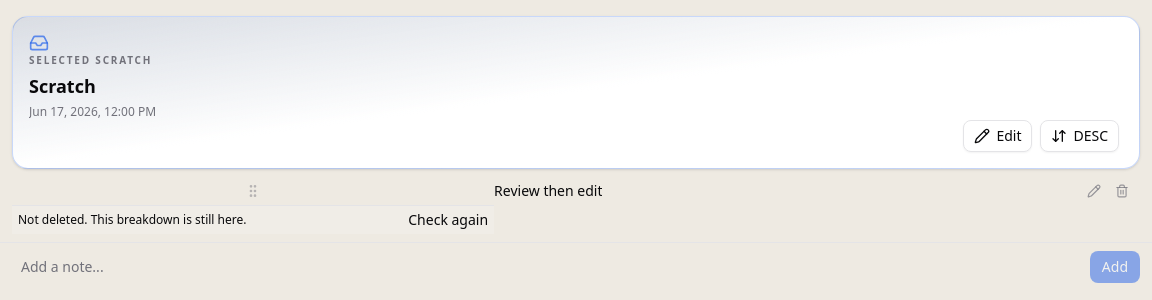
BreakdownPanel › clears a terminal Delete reliability line when the retained row starts a new source interaction
Expected: the text "Not deleted. This breakdown is still here." is shown, [18,211,246,228]
Click the button named "Edit" at (1094, 191), box [1080,177,1108,205]
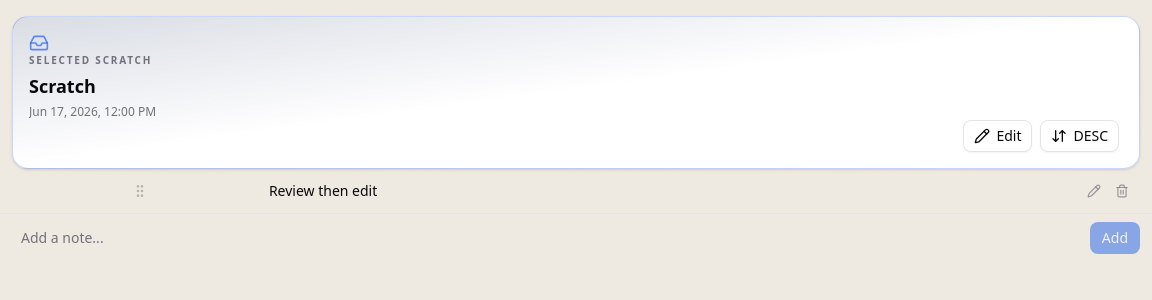
Expected: the text "Not deleted. This breakdown is still here." is gone
